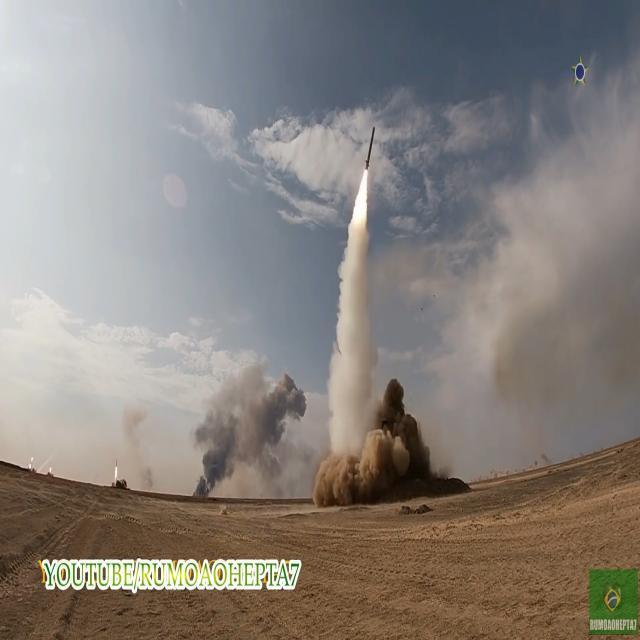missile: (364, 126, 374, 170)
